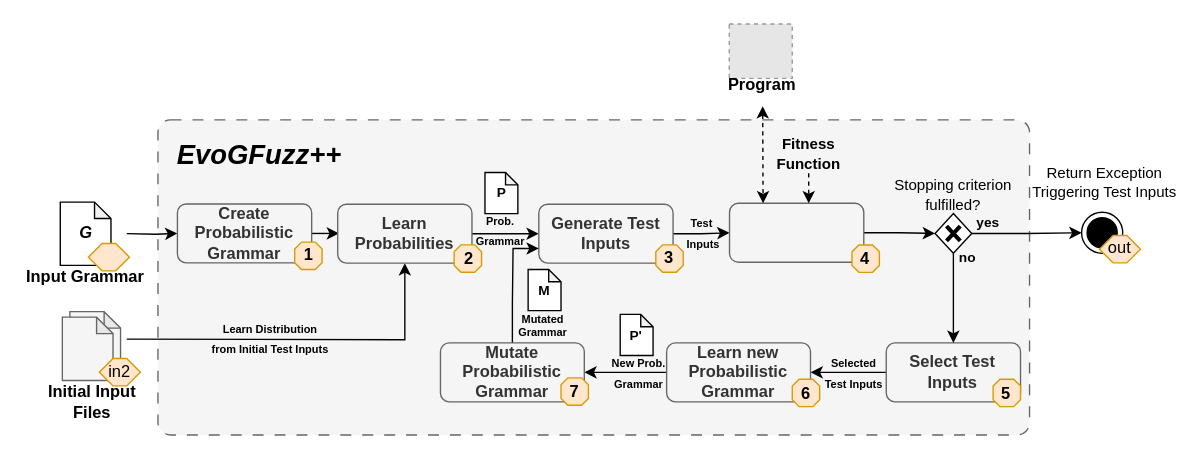
The diagram is 1203 pixels wide and 459 high, and some of its shapes have lost their labels. Grey dashed boxes stand in for pictures. The centre of each missing label's shape, as x and y in pixels:
"Analyze Test Inputs" belongs at (796,232).
"in1" belongs at (108,256).
"Test Cases" belongs at (87,348).
